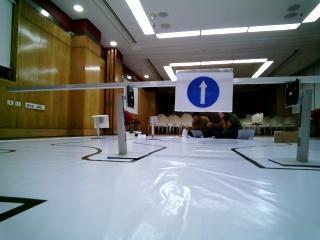straight: (176, 71, 229, 110)
